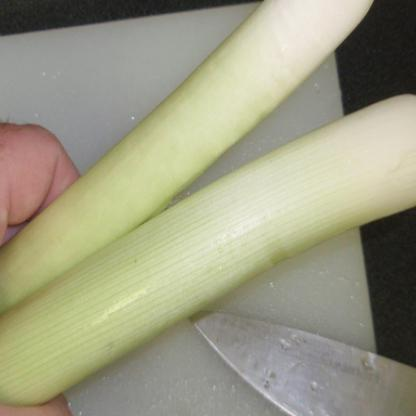knife: (189, 311, 415, 415)
